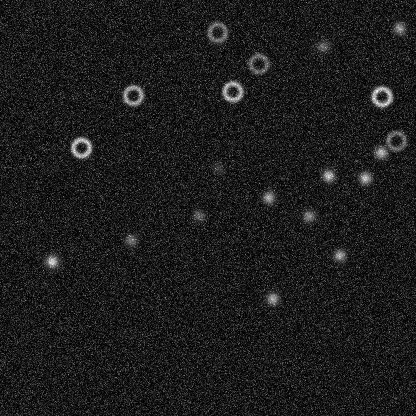Ring: (69, 135, 93, 159), (384, 128, 408, 152), (369, 84, 393, 108), (120, 83, 144, 107), (205, 20, 229, 44), (220, 79, 244, 103), (246, 51, 270, 75)
Spot: (264, 290, 280, 306), (260, 189, 276, 205), (320, 167, 336, 183), (190, 207, 206, 223), (314, 38, 330, 54), (391, 20, 407, 36), (123, 232, 139, 248), (372, 144, 388, 160), (331, 247, 347, 263), (43, 253, 59, 269), (300, 207, 316, 223), (356, 170, 372, 186), (209, 159, 225, 175)
